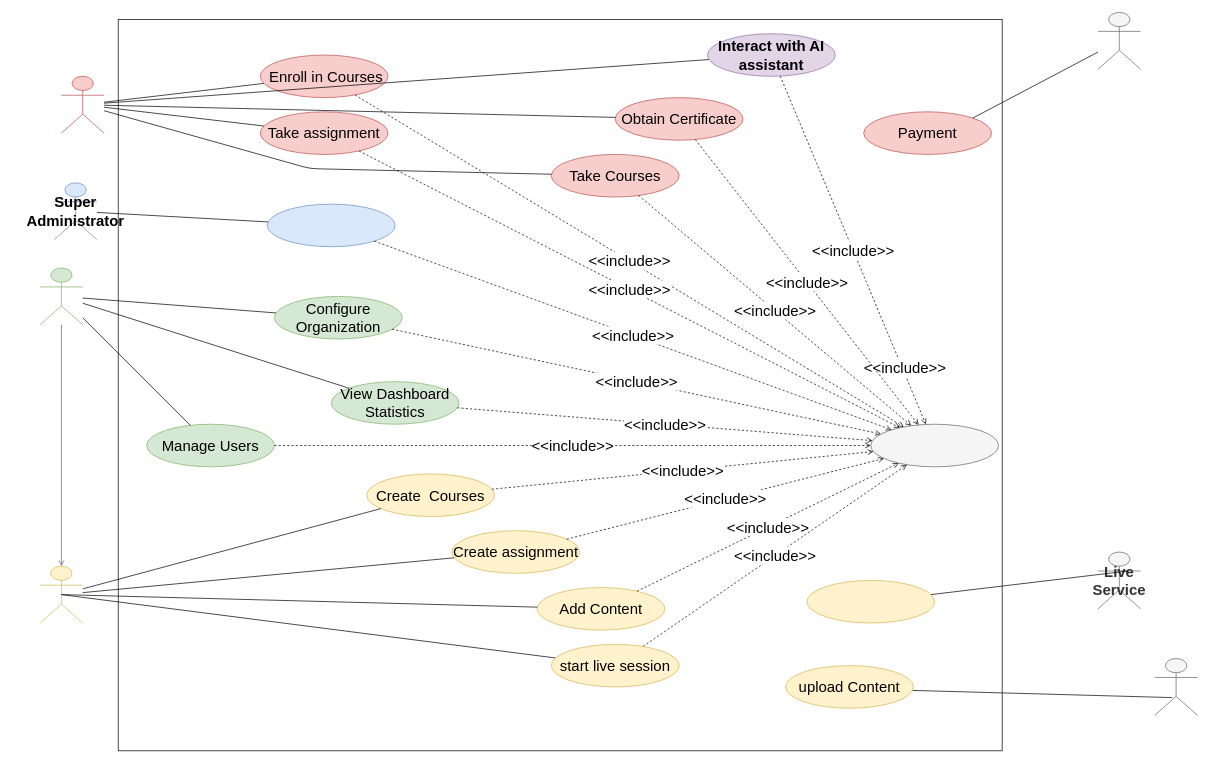
This 1218x763 diagram has some shape labels left out. Each missing label, with the centre of its shape:
Authenticate: the point at 934,445
Instructor: the point at 61,594
Manage live session: the point at 870,601
Manage Organizations: the point at 331,225
Organization Administrator: the point at 61,296
Payment Gatway: the point at 1119,40
Storage Service: the point at 1175,686
Student: the point at 82,104
